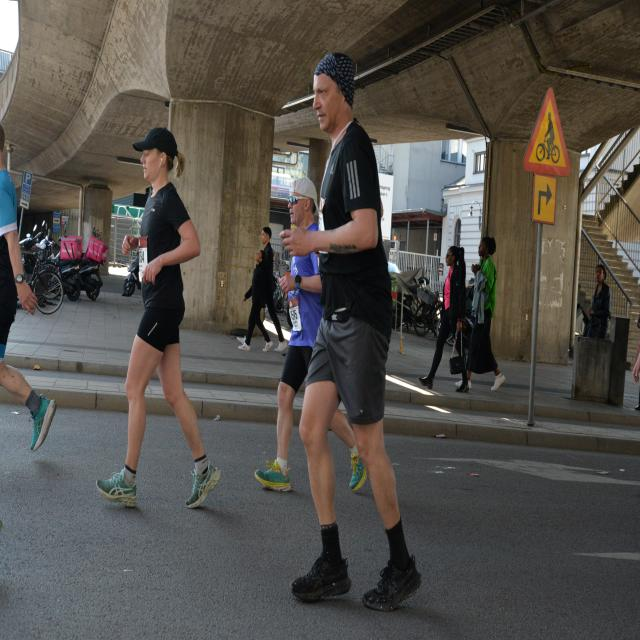runner-detect: (286, 53, 438, 612), (96, 110, 221, 524), (252, 168, 340, 502)
